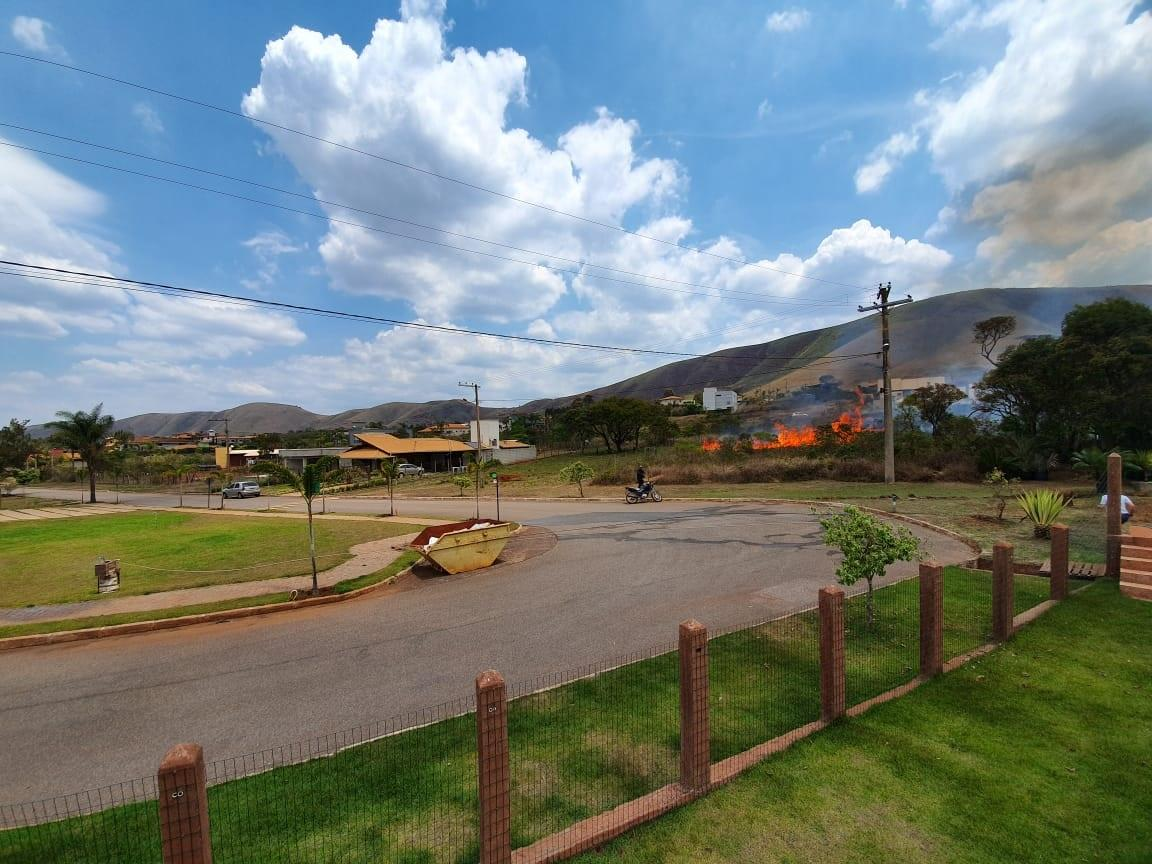Fire: (746, 420, 821, 450), (834, 399, 867, 436), (700, 437, 723, 452)
